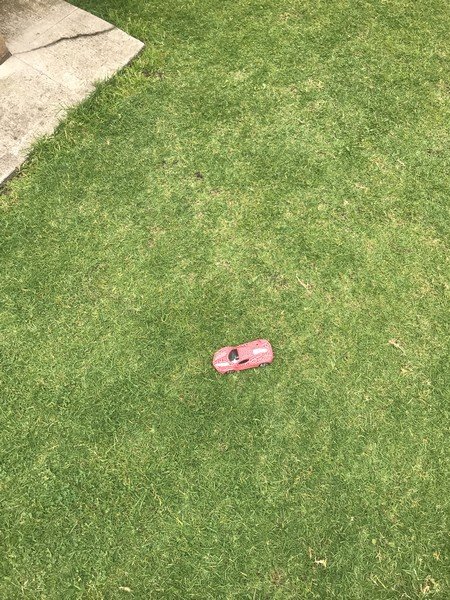RC: (212, 336, 275, 376)
